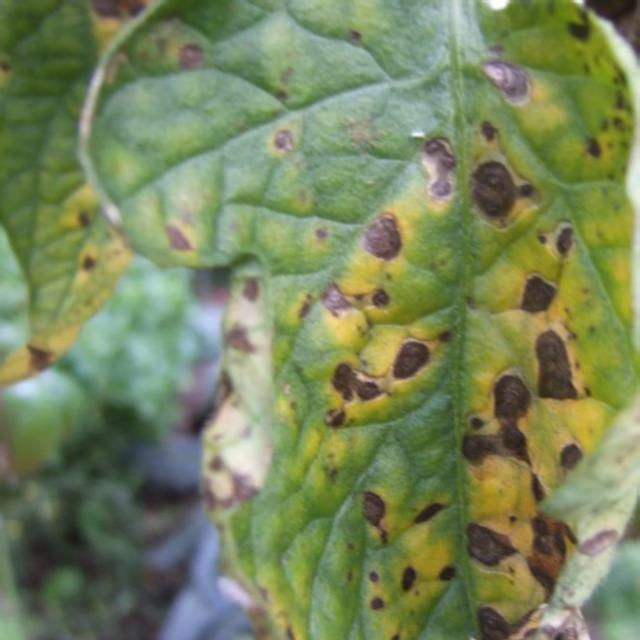Tomato Early blight leaf: (81, 0, 640, 640)
